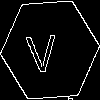V: (25, 25, 58, 74)
